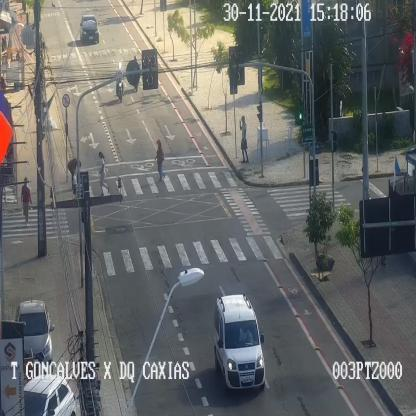car: (214, 294, 264, 388), (16, 300, 52, 372), (23, 374, 76, 416), (80, 14, 98, 42)
motorbike: (116, 62, 124, 102), (132, 56, 140, 92)
person: (21, 177, 32, 226), (98, 151, 109, 195), (154, 139, 165, 182), (67, 158, 81, 190), (239, 115, 248, 162)
